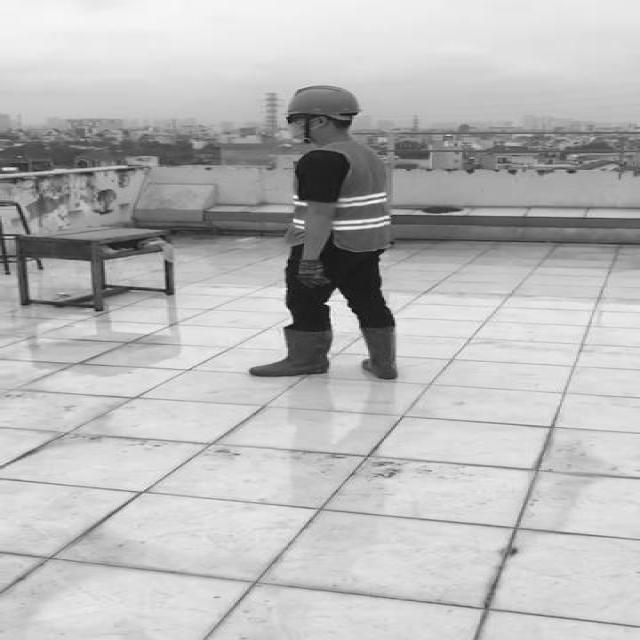boots: (246, 324, 334, 377), (358, 327, 398, 382)
face_mask: (283, 114, 318, 141)
hand_glove: (297, 257, 332, 288)
head_helmet: (280, 84, 369, 118)
person: (236, 77, 412, 382)
vest: (286, 143, 388, 251)
